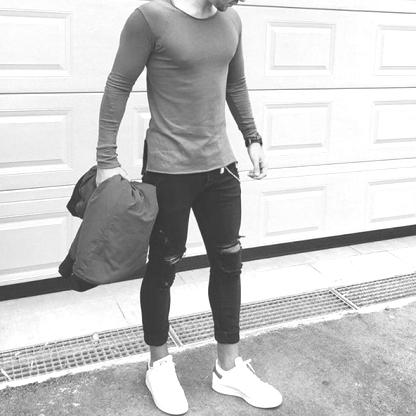dress: (96, 0, 262, 173)
